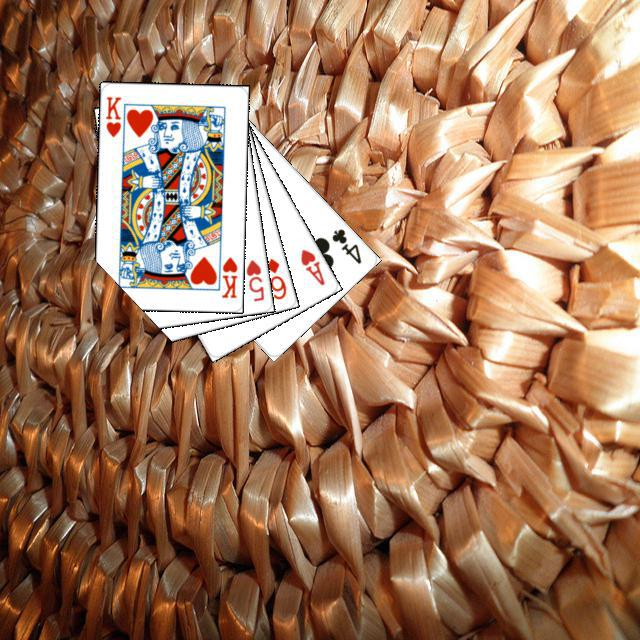4c: (327, 224, 363, 266)
5h: (241, 255, 266, 303)
6d: (261, 253, 288, 301)
Ah: (295, 244, 327, 287)
Kh: (211, 248, 239, 300), (101, 92, 123, 139)
